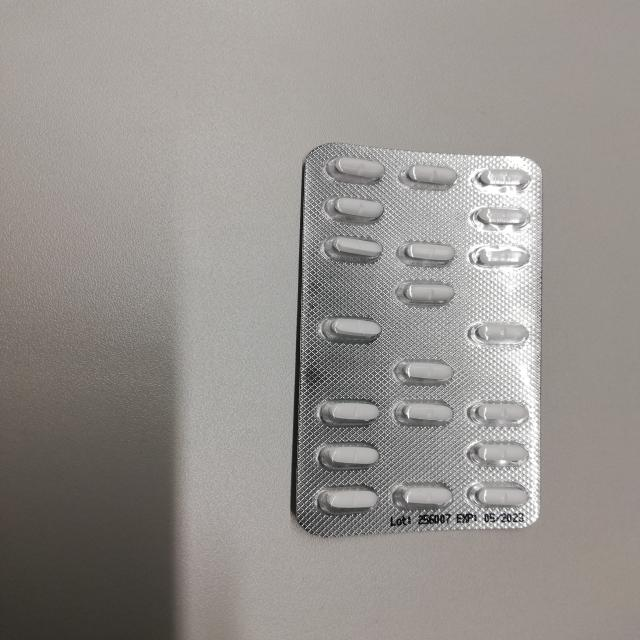Pill: (456, 433, 537, 474), (463, 236, 539, 274), (309, 484, 385, 520), (316, 147, 394, 182), (322, 310, 393, 347), (315, 229, 389, 264), (387, 479, 461, 513), (461, 396, 533, 429), (400, 154, 467, 189), (468, 199, 544, 229), (465, 478, 533, 511), (317, 439, 387, 471), (400, 235, 461, 271), (391, 353, 459, 385), (396, 275, 456, 311), (311, 396, 383, 426), (328, 192, 391, 226), (468, 319, 534, 350), (472, 166, 541, 194), (398, 399, 458, 429)
